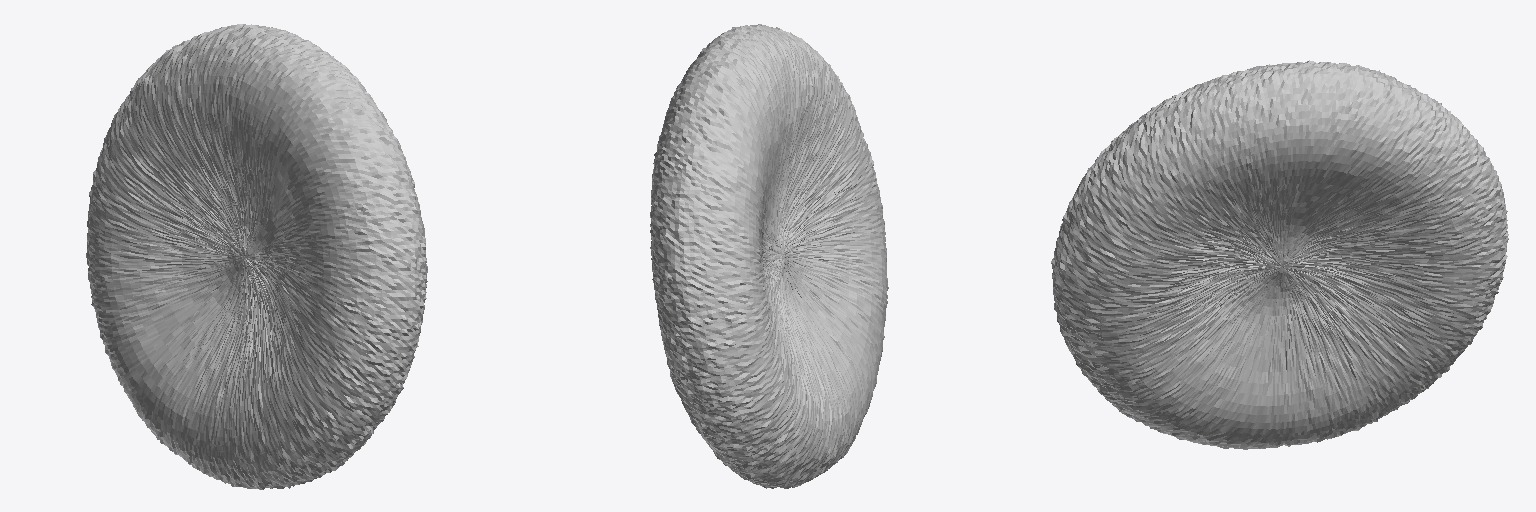
File: rbc.obj
The picture shows the model from 3 angles: view 1: azimuth 30°, elevation 25°; view 2: azimuth 150°, elevation 25°; view 3: azimuth 270°, elevation 25°; orthographic projection.
Visible parts, largest first — view 1: Torus.009_Torus.005; view 2: Torus.009_Torus.005; view 3: Torus.009_Torus.005.
Part boxes in pixels (bbox=[...]): Torus.009_Torus.005: bbox=[86, 24, 427, 489]; Torus.009_Torus.005: bbox=[650, 24, 888, 488]; Torus.009_Torus.005: bbox=[1051, 60, 1508, 449].
Bounding box in the file's own units: 1.06 × 2.37 × 2.38.